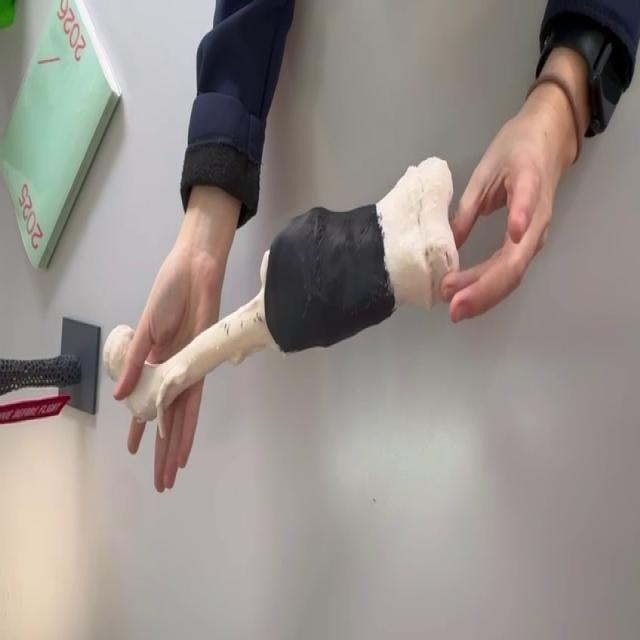bones: (126, 158, 458, 437)
